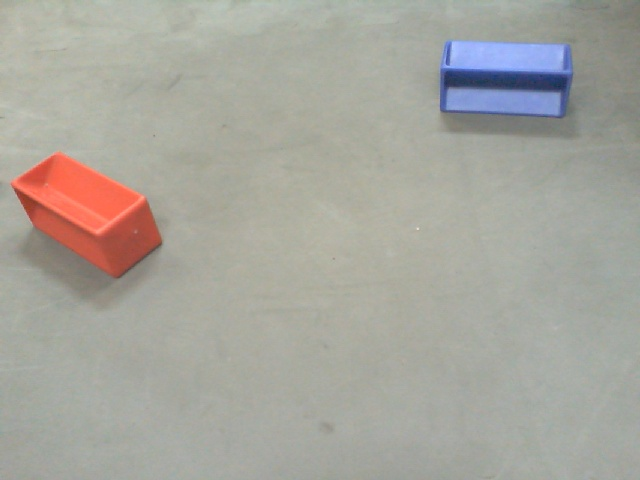BlueSample: (438, 37, 575, 127)
RedSample: (7, 150, 164, 279)
